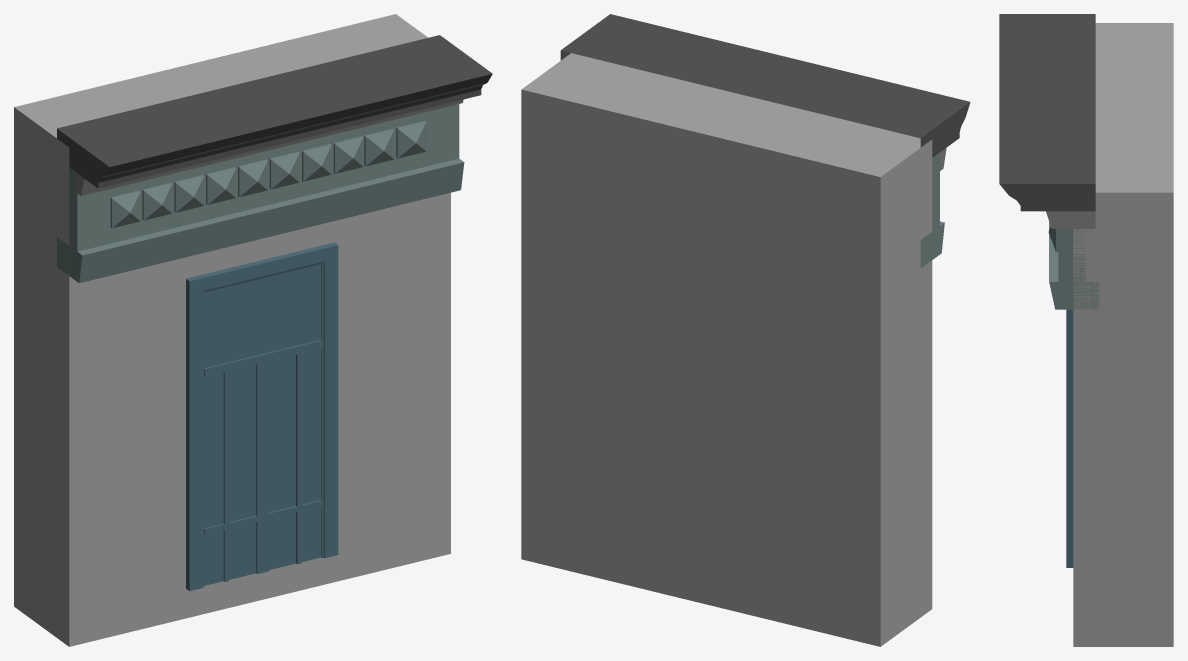
The model's file is SM_Build01_Wall_03.fbx.
3 views of the same model, side by side, from view 1: azimuth 30°, elevation 25°; view 2: azimuth 150°, elevation 25°; view 3: azimuth 270°, elevation 25° (orthographic). The views are drawn at different scales.
Parts seen in each view (by area): view 1: SM_Build01_Wall_03; view 2: SM_Build01_Wall_03; view 3: SM_Build01_Wall_03.
Boxes of the visible parts, x1,y1,x2,y2 form: SM_Build01_Wall_03: [14, 14, 492, 646]; SM_Build01_Wall_03: [521, 14, 970, 646]; SM_Build01_Wall_03: [999, 14, 1173, 646].
Size of the model in its own units: 401 by 510 by 174.
